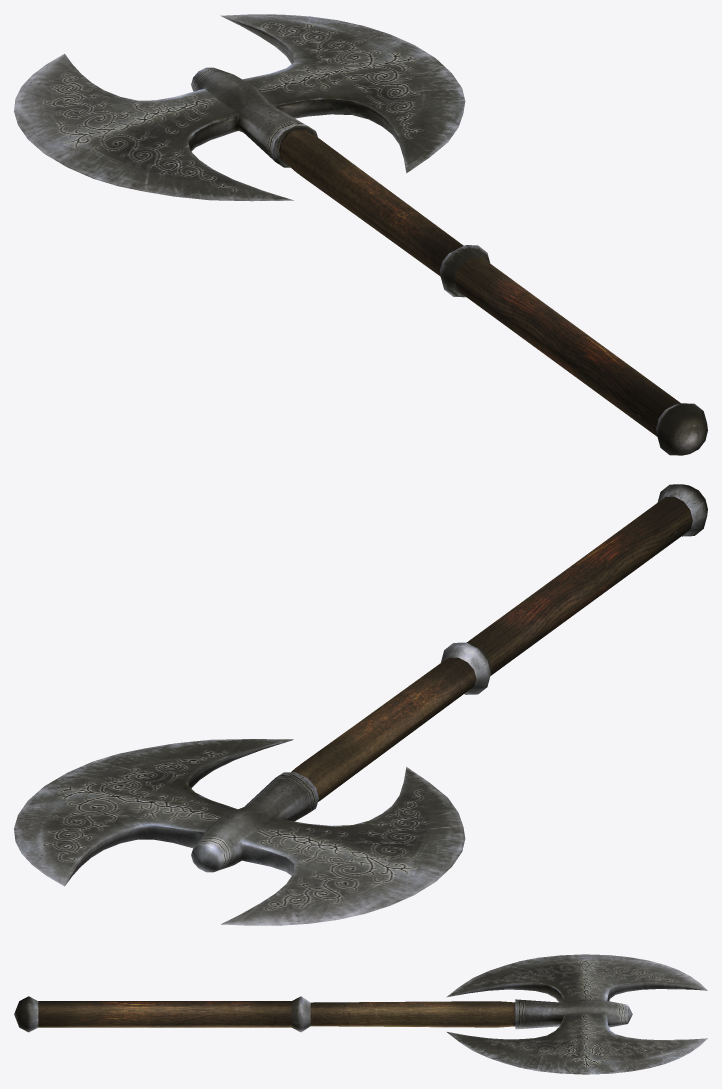
Rendered from Axe_B.FBX.
3 views of the same model, one above another, from view 1: azimuth 30°, elevation 25°; view 2: azimuth 150°, elevation 25°; view 3: azimuth 270°, elevation 25° (orthographic). The views are drawn at different scales.
Parts seen in each view (by area): view 1: Axe_B; view 2: Axe_B; view 3: Axe_B.
Part boxes in pixels (bbox=[...]): Axe_B: bbox=[14, 14, 707, 455]; Axe_B: bbox=[14, 484, 707, 925]; Axe_B: bbox=[14, 954, 707, 1074].
Bounding box in the file's own units: 29.92 × 3.82 × 72.96.
